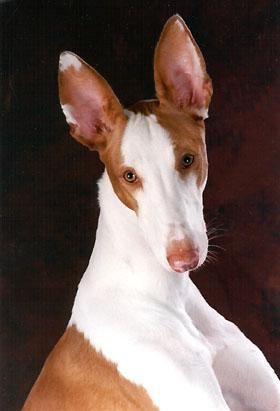Ibizan_hound: (18, 12, 278, 409)
